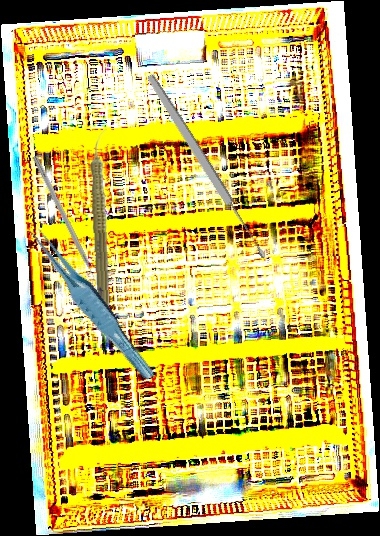Chopper: (25, 154, 101, 291)
Handpiece: (85, 126, 119, 320)
Surgical Spoon: (144, 72, 270, 262)
Tissue Forceps: (25, 214, 157, 390)
